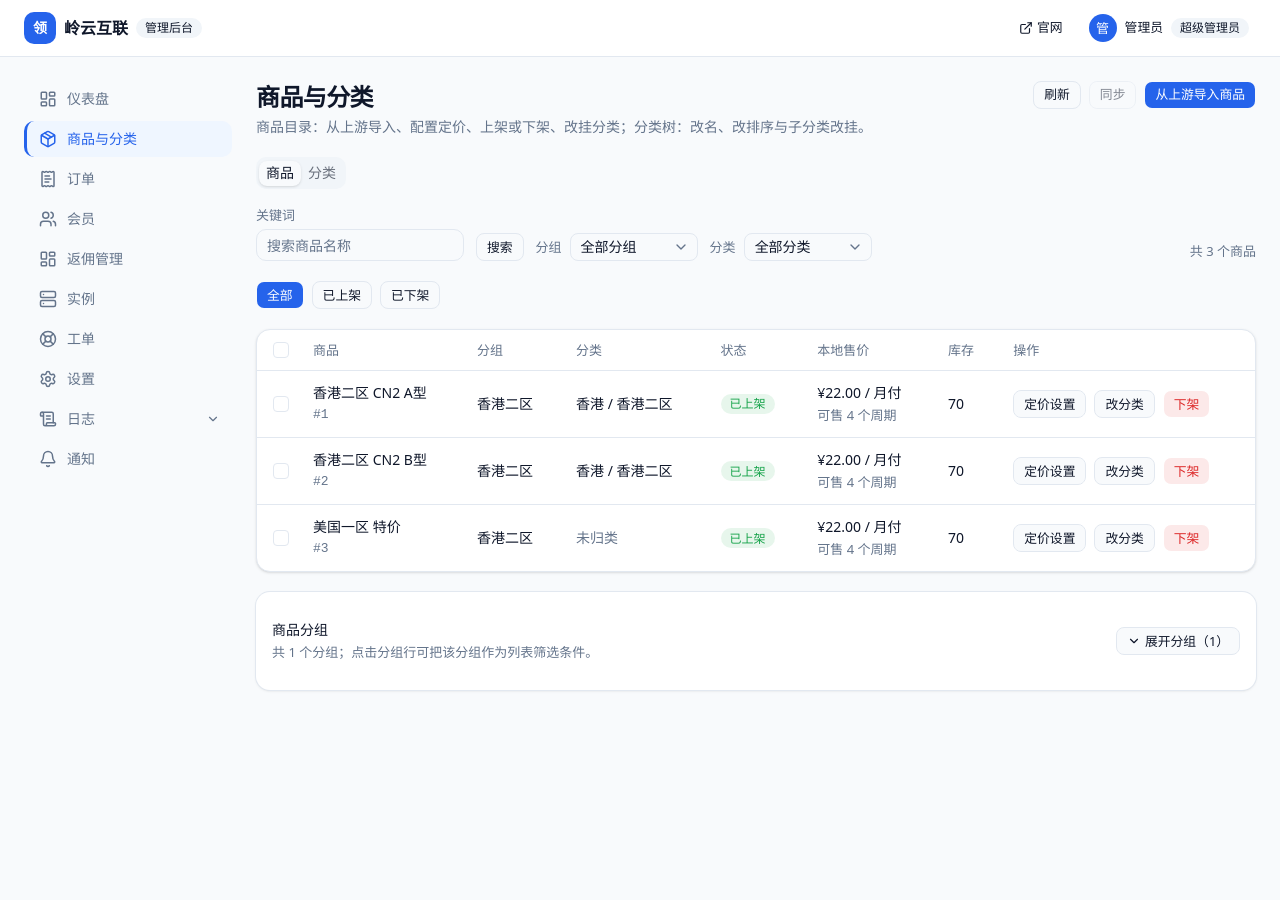
Scenario: 管理后台 · 商品同步（R20） › 整次失败（后端 500，如上游未配置）展示后端 message，不显示结果汇总
Expected: the heading "商品与分类" is shown, [256,80,373,113]
Expected: the text "香港二区 CN2 A型" is shown, [313,383,445,403]
Click the checkbox named "选择商品 香港二区 CN2 A型": (281, 404) [273,396,289,412]
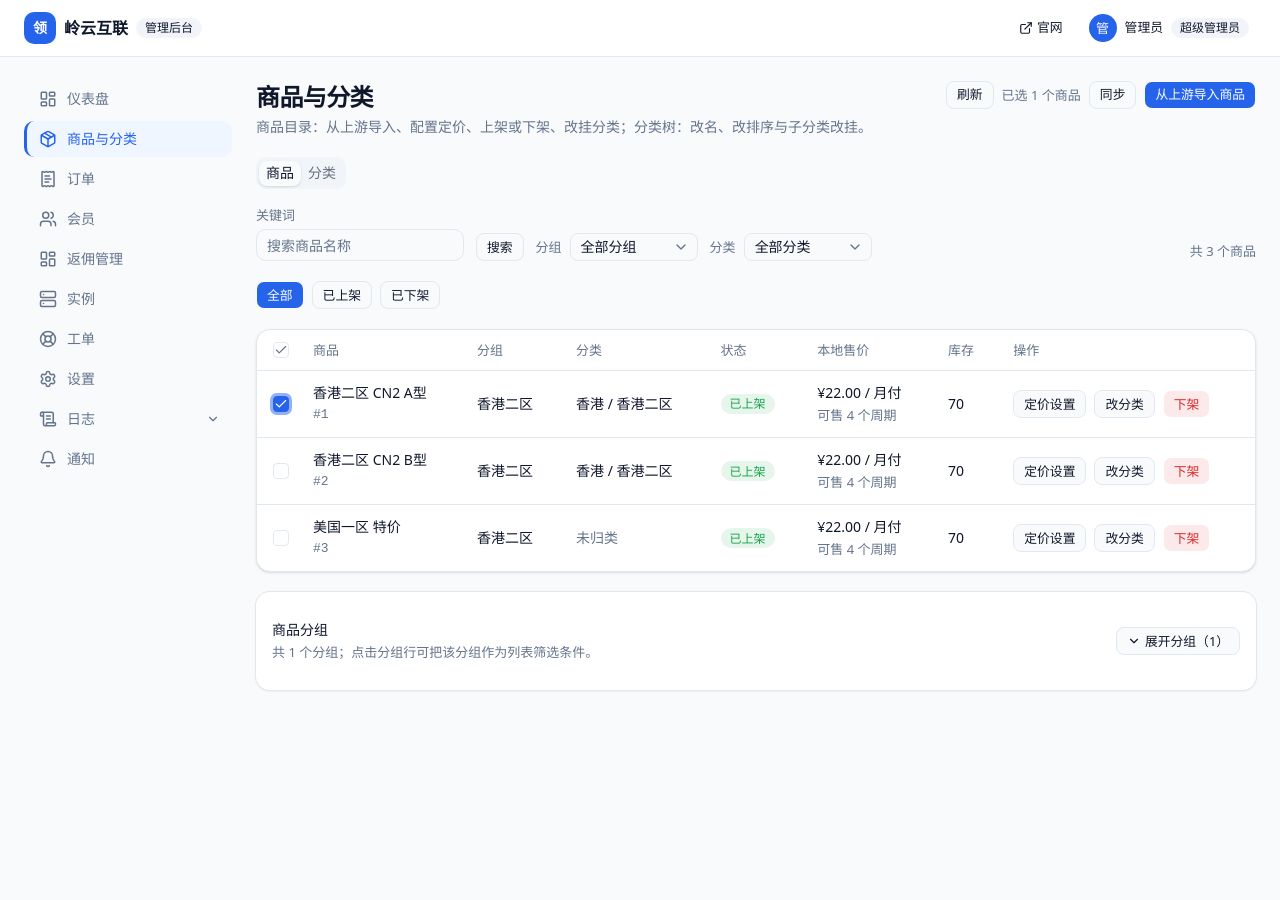
Click the button "同步": (1113, 95) [1089,81,1136,109]
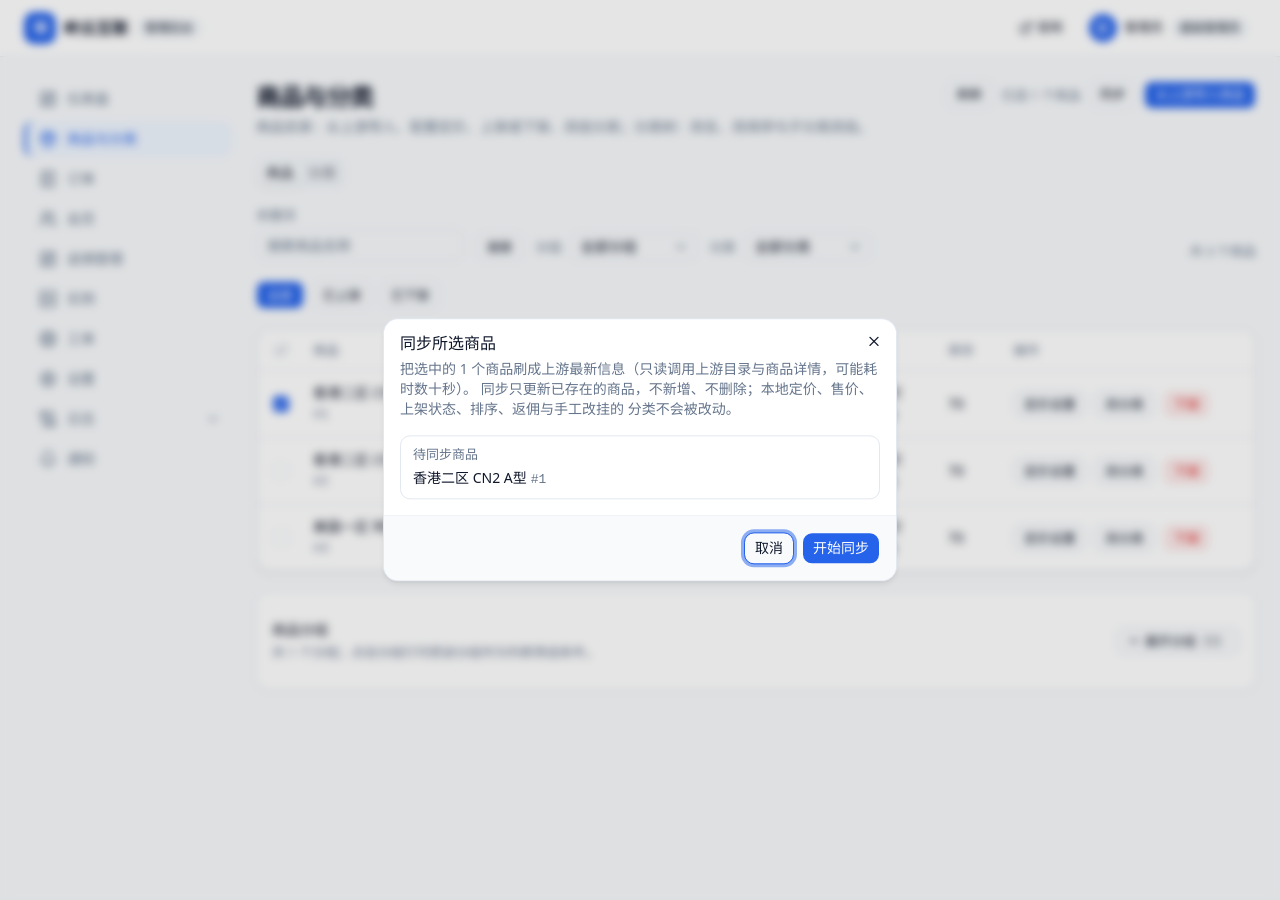
Result: the heading "同步所选商品" is shown at [400,332,496,354]
Click the button "开始同步": (841, 549) [802,533,880,565]
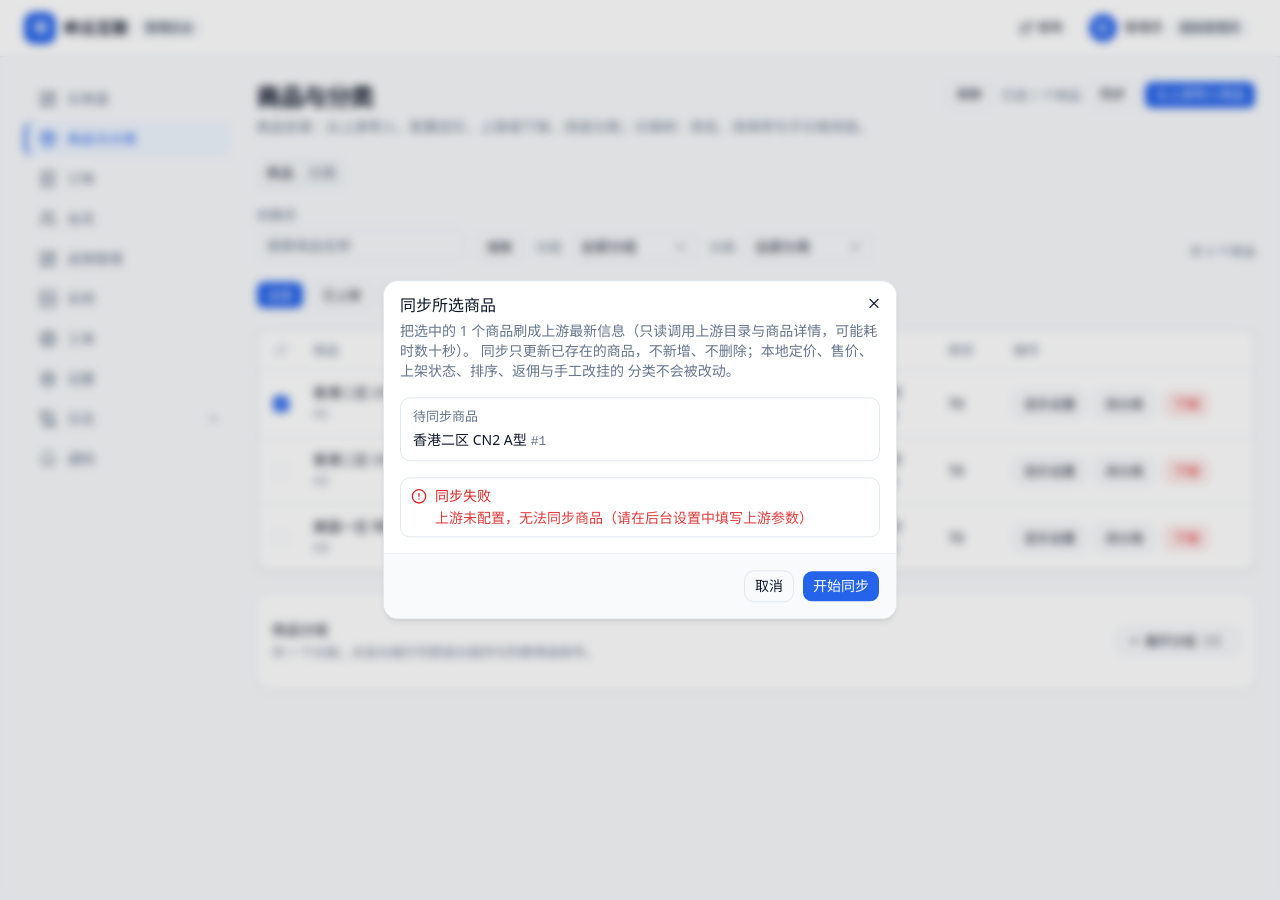
Result: the text "同步失败" is shown at [435,487,491,506]
Result: the text "上游未配置，无法同步商品（请在后台设置中填写上游参数）" is shown at [435,509,869,529]
